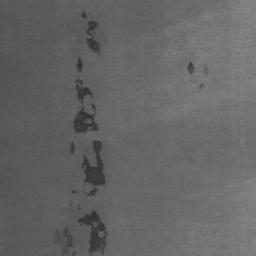Iron scale compression: (77, 211, 107, 254), (83, 141, 104, 197), (74, 103, 98, 133), (75, 79, 93, 103), (86, 38, 100, 56), (64, 229, 73, 246), (86, 21, 97, 33), (76, 57, 83, 73), (186, 63, 195, 75), (69, 142, 76, 155)
